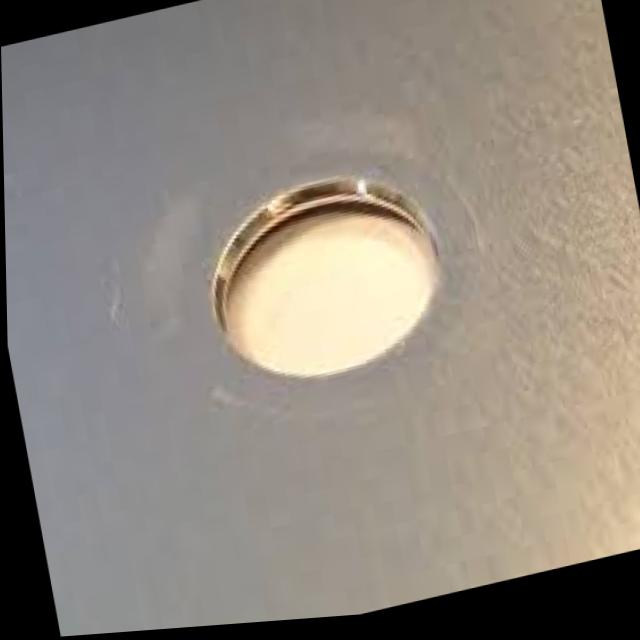holes: (191, 160, 453, 403)
